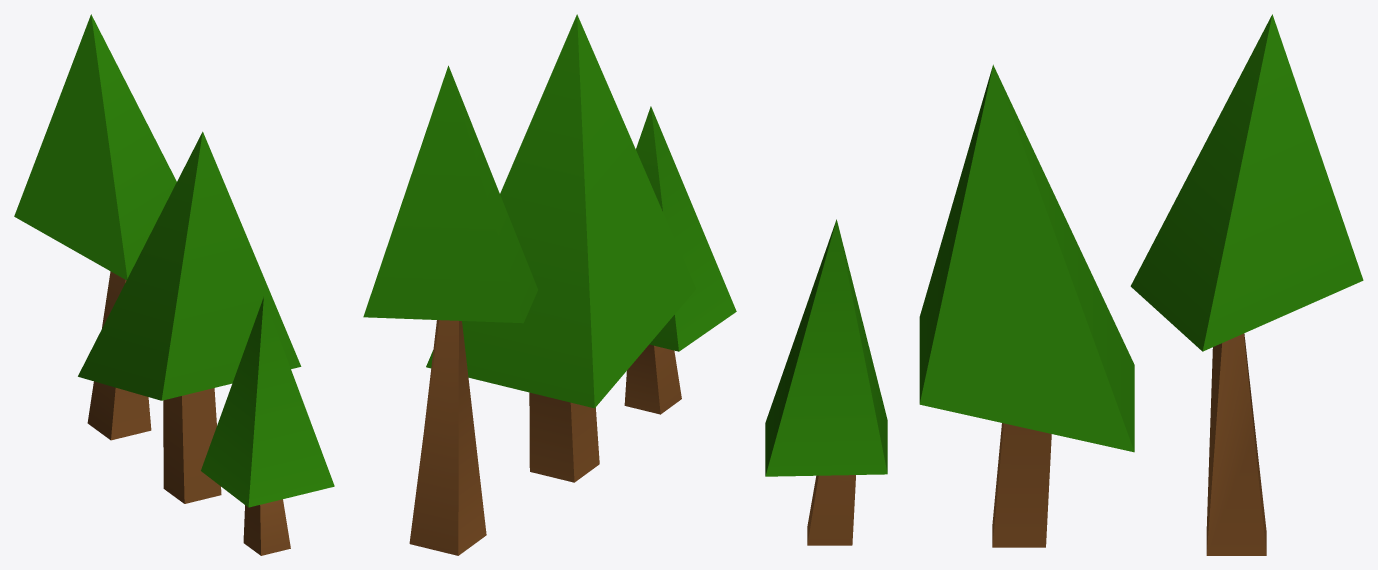
The model's file is Trees_LQ.fbx.
3 renders of one model, left to right at view 1: azimuth 30°, elevation 25°; view 2: azimuth 150°, elevation 25°; view 3: azimuth 270°, elevation 25°, orthographic. The views are drawn at different scales.
Visible parts, largest first — view 1: tree mid.003, tree big.003, tree smol.003; view 2: tree mid.003, tree big.003, tree smol.003; view 3: tree mid.003, tree big.003, tree smol.003.
Part boxes in pixels (x1,y1,x2,y2): tree mid.003: (78,131,301,503); tree big.003: (14,14,176,440); tree smol.003: (201,297,334,555); tree mid.003: (426,14,695,482); tree big.003: (363,65,537,555); tree smol.003: (624,106,736,414); tree mid.003: (919,64,1134,547); tree big.003: (1130,14,1363,555); tree smol.003: (765,219,887,545).
Size of the model in its own units: 2.19 by 5.7 by 5.47.
Materials: 1 (1 with a texture image).
